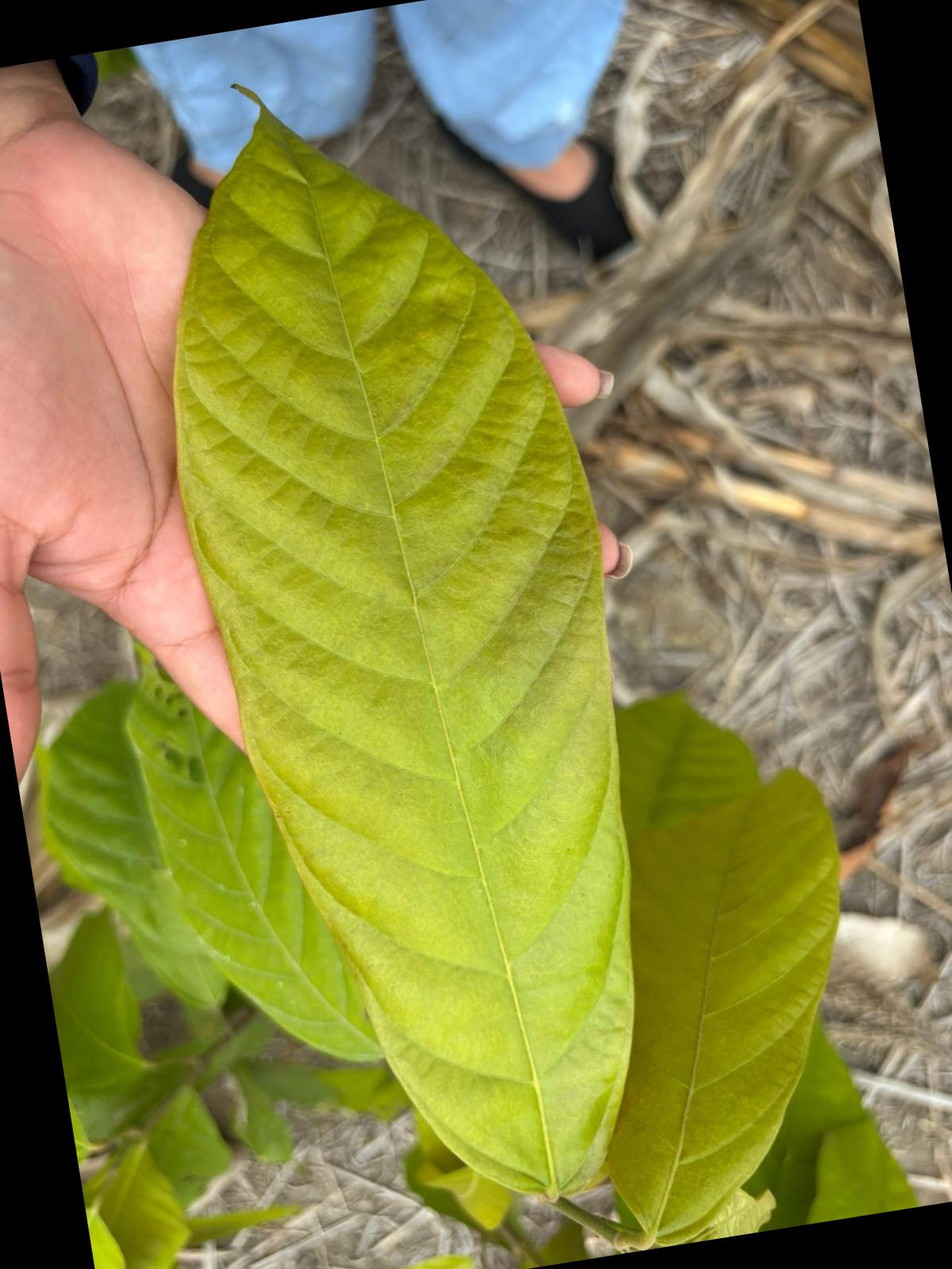Nitrogeno: (173, 92, 632, 1197), (606, 696, 837, 1250)
